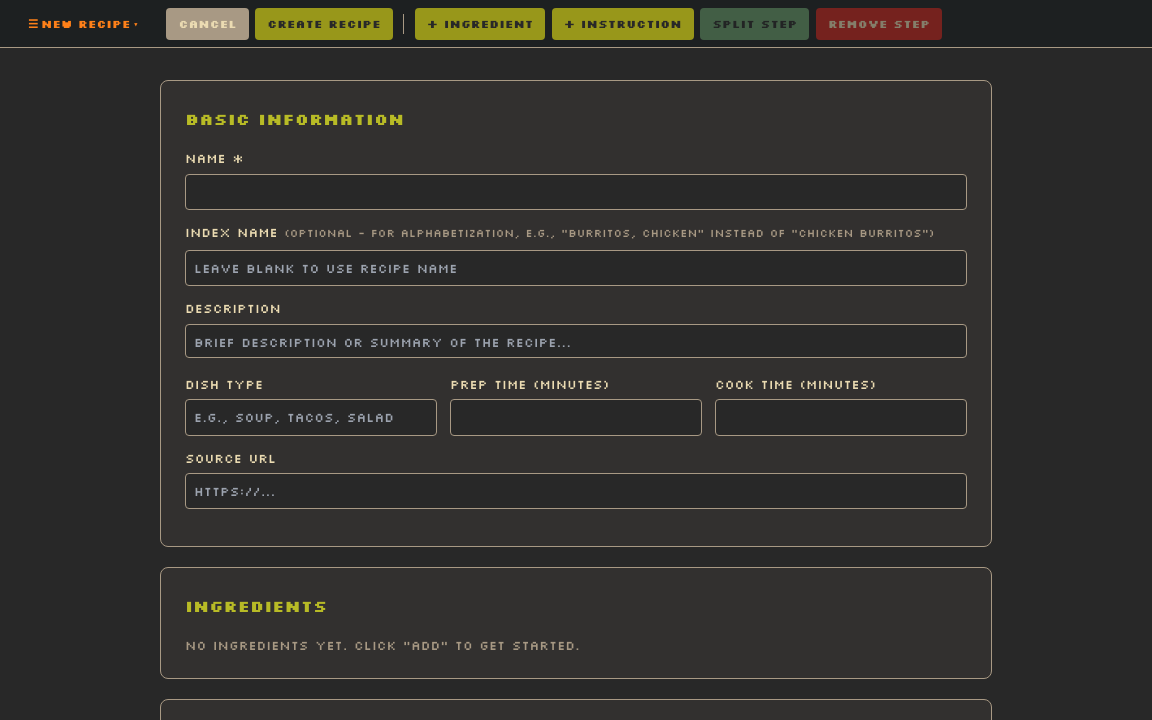
Scenario: RecipeForm › Ingredient CRUD › adds an ingredient row when clicking + Ingredient in menu bar
Click the button "+ Ingredient".
click(480, 24)  # box [415,8,545,40]
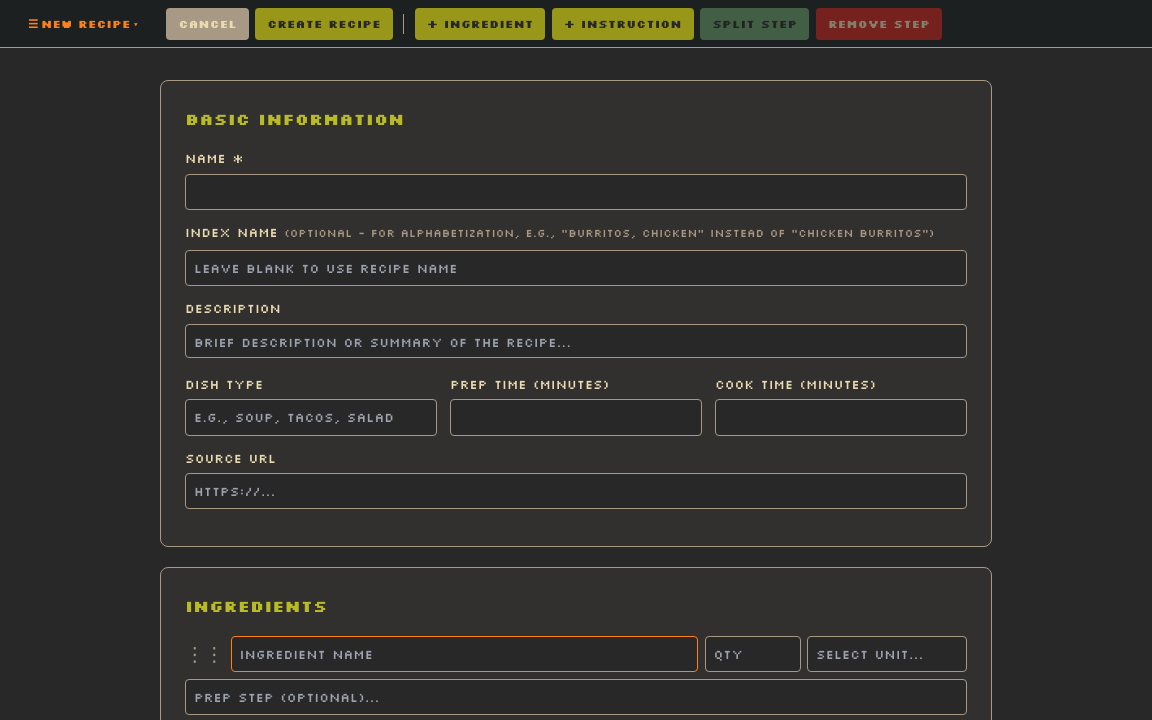
Check: the field with placeholder "Ingredient name" is shown, box [230,636,698,672]
Check: the number field with placeholder "Qty" is shown, box [704,636,800,672]
